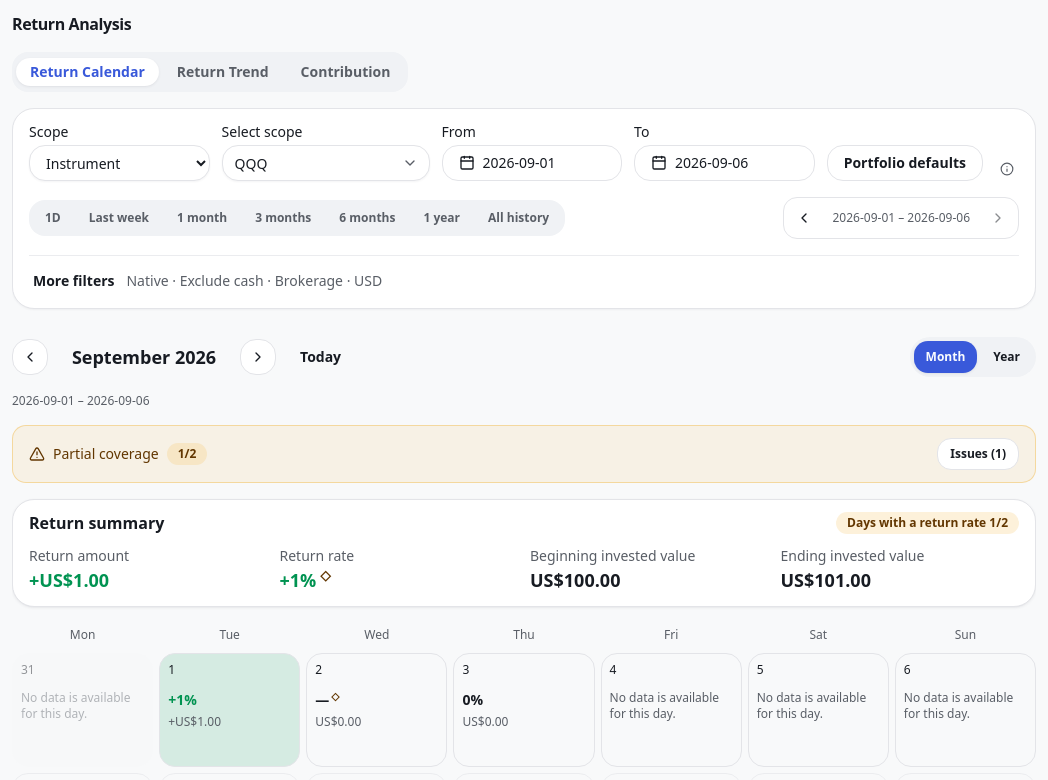
Test: ReturnAnalysisPage › keeps the browsed month and object filters when switching to trend
Check: the heading "September 2026" is shown, box [72,345,216,369]
What coordinates should you click on to do the following:
click the button named "Previous"
I would click on:
 (30, 357)
Its box is [12,339,48,375].
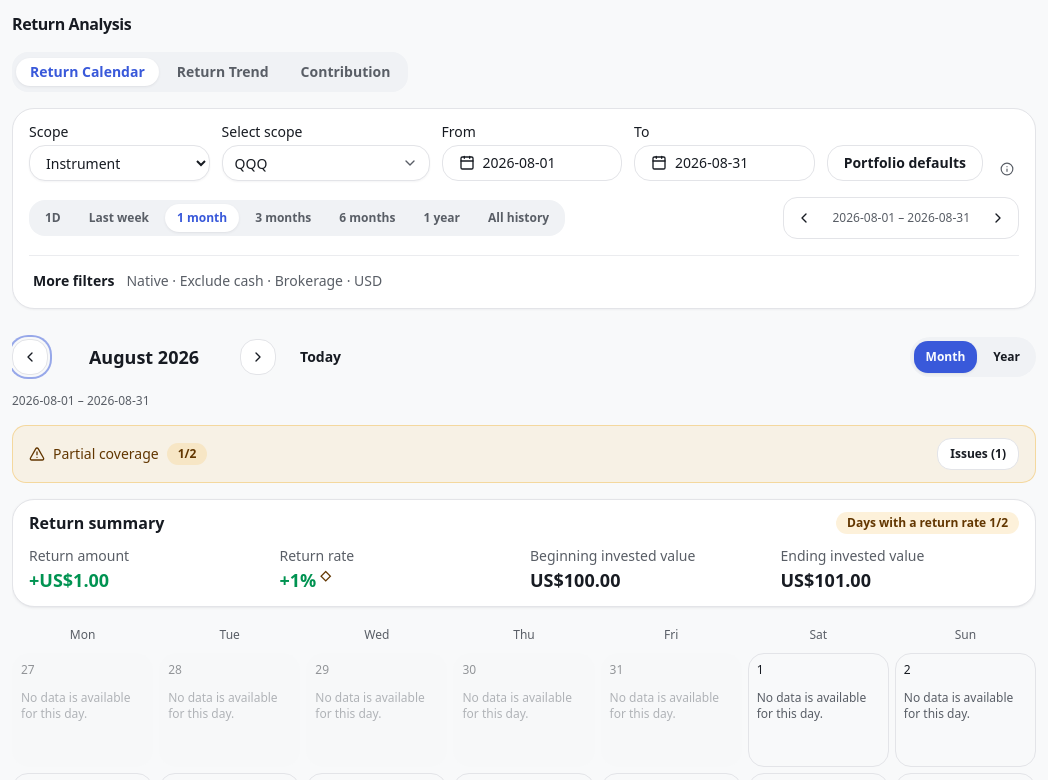
What coordinates should you click on to do the following:
click the tab "Return Trend"
I would click on:
 (223, 72)
Its box is [163,58,283,86].
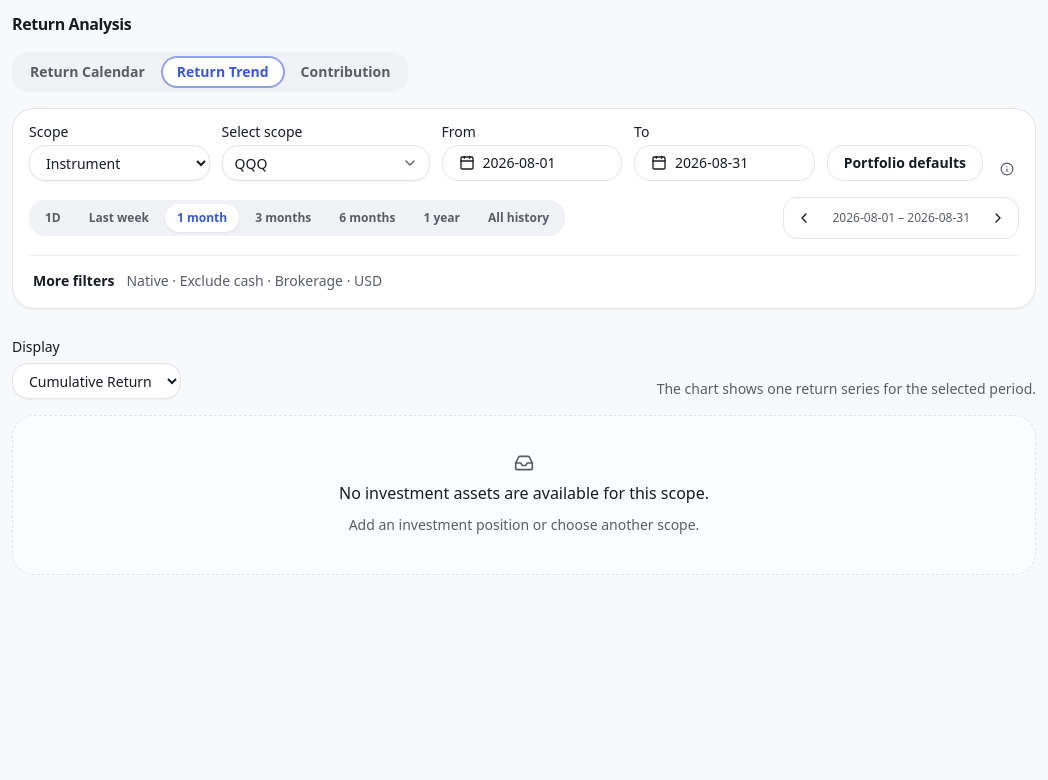
What coordinates should you click on to do the following:
click the tab "Return Calendar"
I would click on:
 (87, 72)
Its box is [16,58,159,86].
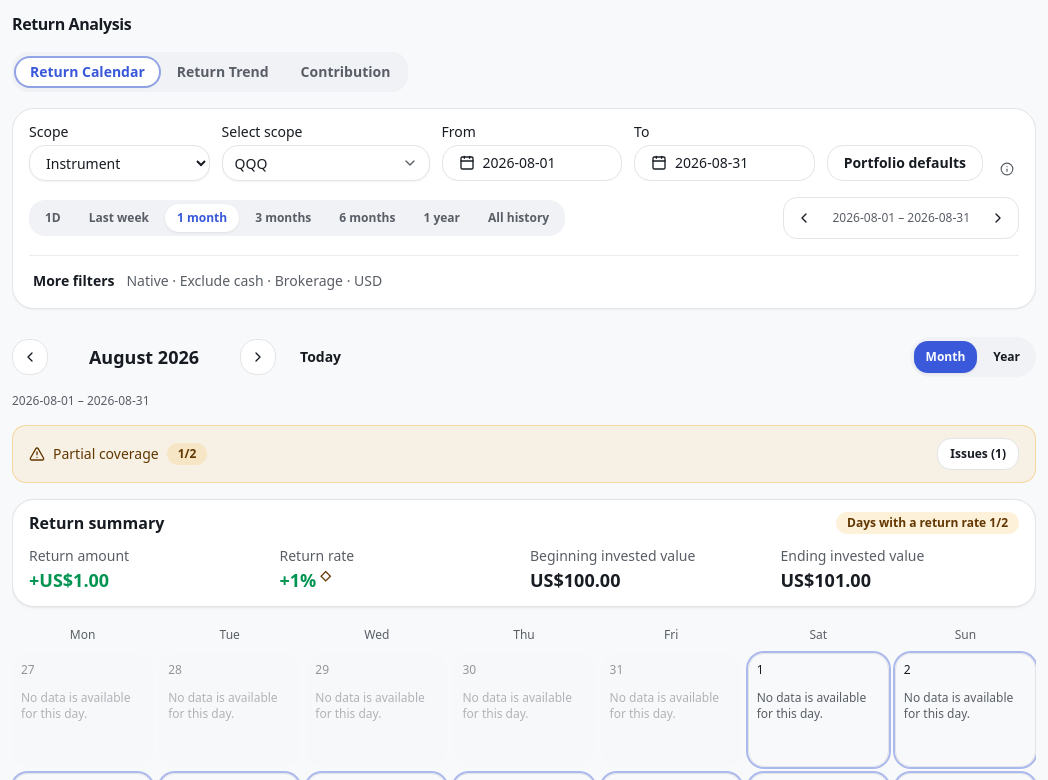
Check: the heading "August 2026" is shown, box [89,345,199,369]
